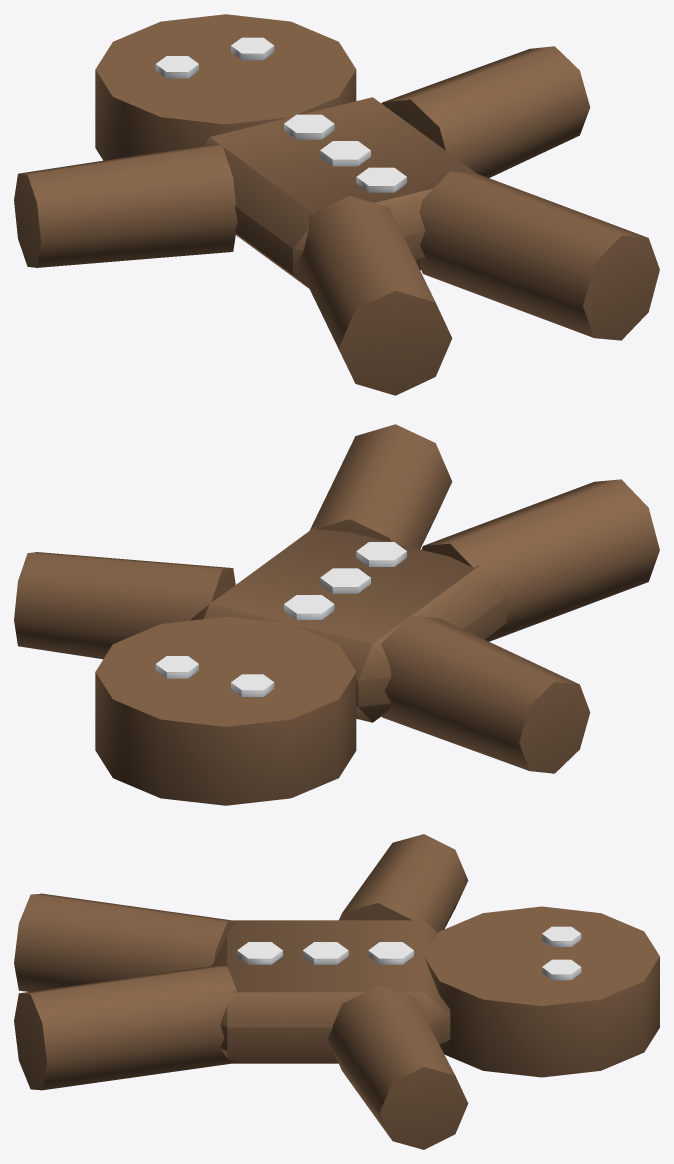
The model's file is dt_gingerbread_cookie.fbx.
3 renders of one model, top to bottom at view 1: azimuth 30°, elevation 25°; view 2: azimuth 150°, elevation 25°; view 3: azimuth 270°, elevation 25°, orthographic. The views are drawn at different scales.
Visible parts, largest first — view 1: dt_gingerbread_cookie; view 2: dt_gingerbread_cookie; view 3: dt_gingerbread_cookie.
Boxes of the visible parts, left/top/right/bottom form: dt_gingerbread_cookie: left=14, top=14, right=659, bottom=395; dt_gingerbread_cookie: left=14, top=424, right=659, bottom=805; dt_gingerbread_cookie: left=14, top=834, right=659, bottom=1149.
Bounding box in the file's own units: 88.82 × 16.24 × 100.
